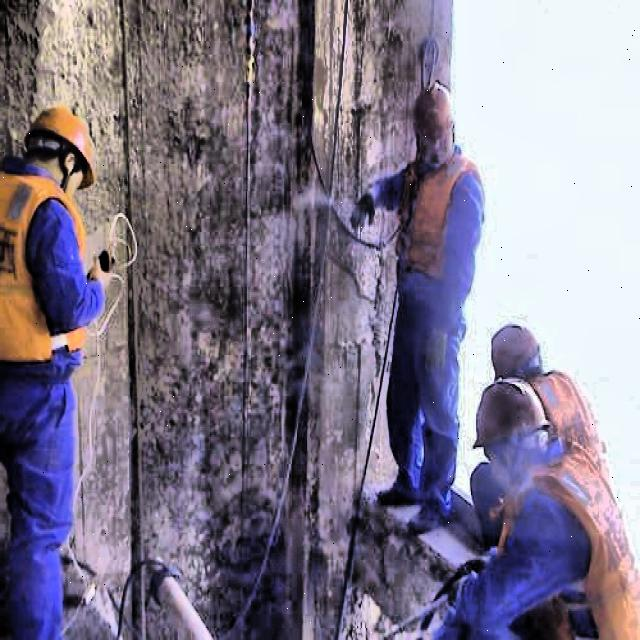helmet: (474, 372, 554, 498), (18, 100, 100, 208), (483, 316, 553, 396), (408, 77, 460, 176)
